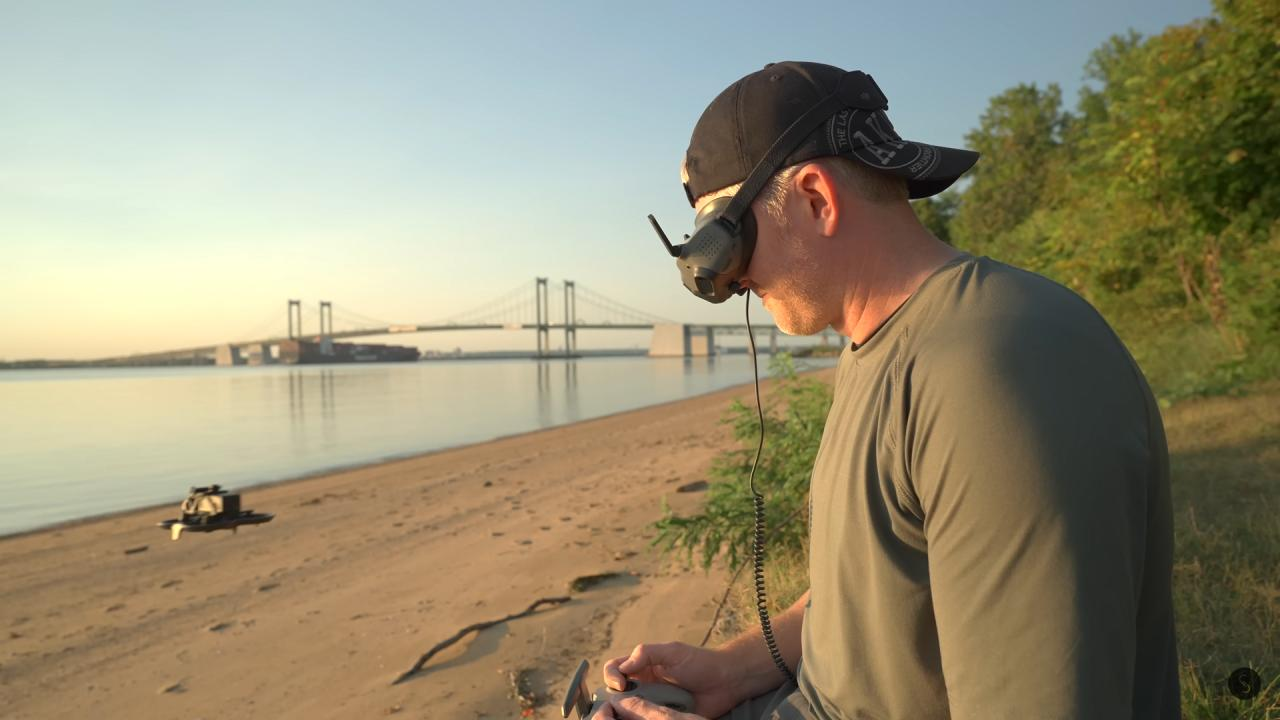Drone: (134, 470, 290, 552)
